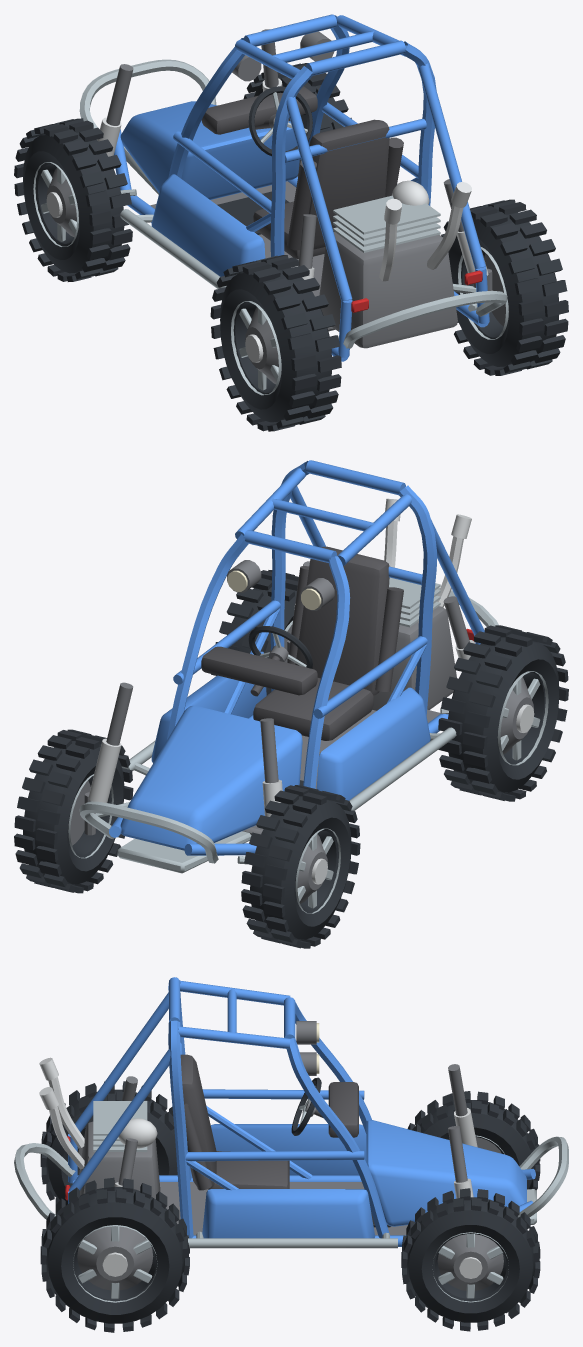
File: StuntBuggy.fbx
The picture shows the model from 3 angles, top to bottom: view 1: azimuth 30°, elevation 25°; view 2: azimuth 150°, elevation 25°; view 3: azimuth 270°, elevation 25°; orthographic projection. The views are drawn at different scales.
Parts seen in each view (by area): view 1: Body__paint, WheelRL__rubber, Body__engine, WheelFL__rubber, WheelRR__rubber, Body__interior, Body__metal, Body__chrome, WheelFR__rubber, WheelRL__metal, WheelRL__engine, WheelFL__metal (+4 smaller); view 2: Body__paint, Body__interior, WheelRL__rubber, WheelFL__rubber, WheelFR__rubber, Body__metal, Body__engine, Body__chrome, WheelRR__rubber, WheelRL__metal, WheelRL__engine, WheelFL__metal (+4 smaller); view 3: Body__paint, WheelRR__rubber, WheelFR__rubber, Body__engine, Body__metal, Body__interior, WheelFL__rubber, WheelRL__rubber, Body__chrome, WheelRR__engine, WheelFR__engine, WheelRR__metal (+3 smaller).
Boxes of the visible parts, x1,y1,x2,y2 form: Body__paint: (114,14,489,361); WheelRL__rubber: (210,255,341,431); Body__engine: (106,29,492,348); WheelFL__rubber: (14,118,132,281); WheelRR__rubber: (441,199,568,375); Body__interior: (201,86,403,259); Body__metal: (79,59,507,348); Body__chrome: (97,78,488,291); WheelFR__rubber: (243,63,351,176); WheelRL__metal: (231,301,281,395); WheelRL__engine: (245,307,278,384); WheelFL__metal: (33,162,78,246); Body__paint: (109,460,484,855); Body__interior: (201,546,403,740); WheelRL__rubber: (438,625,568,801); WheelFL__rubber: (241,785,360,948); WheelFR__rubber: (14,729,133,893); Body__metal: (79,577,498,873); Body__engine: (84,560,469,835); Body__chrome: (88,498,474,816); WheelRR__rubber: (211,570,298,695); WheelRL__metal: (497,671,548,765); WheelRL__engine: (500,677,533,754); WheelFL__metal: (295,828,340,913); Body__paint: (68,977,535,1246); WheelRR__rubber: (40,1177,189,1332); WheelFR__rubber: (401,1188,540,1331); Body__engine: (79,1021,467,1235); Body__metal: (14,1101,568,1248); Body__interior: (180,1054,358,1190); WheelFL__rubber: (407,1091,540,1190); WheelRL__rubber: (40,1081,177,1205); Body__chrome: (39,1057,477,1198); WheelRR__engine: (77,1226,153,1290); WheelFR__engine: (437,1234,503,1290); WheelRR__metal: (73,1225,157,1302).
Size of the model in its own units: 1.66 by 1.81 by 3.28.
